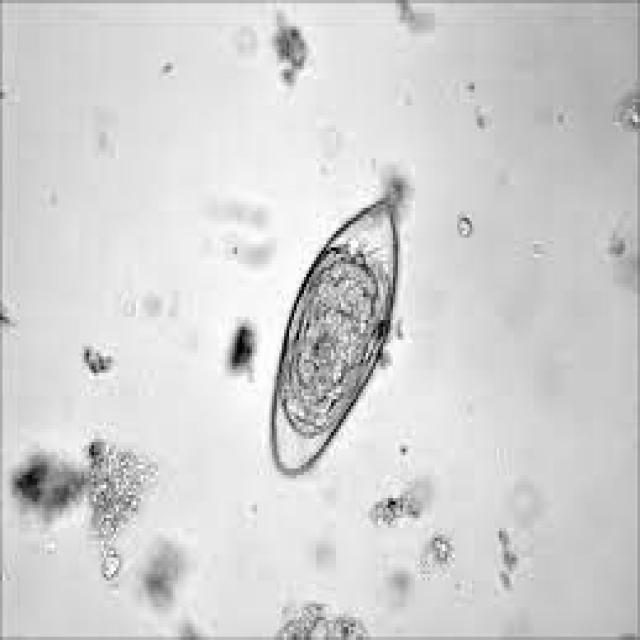Schistosoma: (247, 160, 418, 490)
